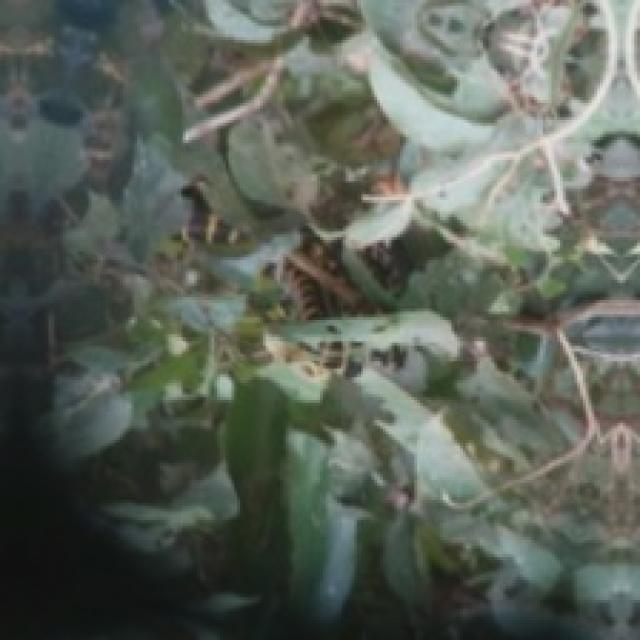mangrove cat snake: (250, 256, 341, 320), (181, 185, 255, 256)
